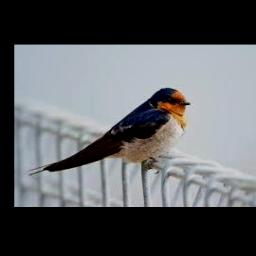Swallow: (27, 88, 191, 176)
